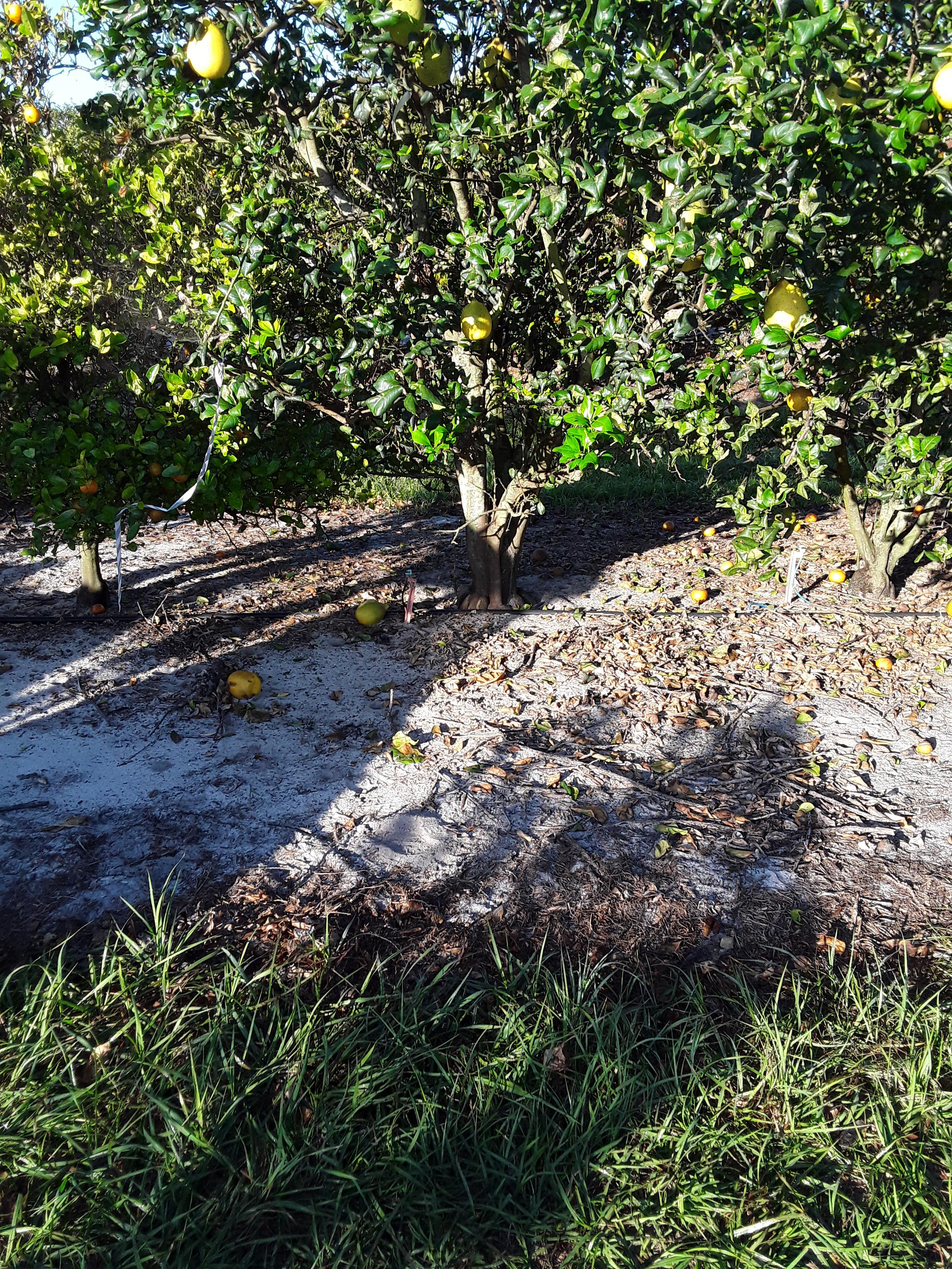fruit_on_ground: (185, 15, 241, 91), (759, 275, 810, 344), (383, 0, 429, 55), (410, 45, 450, 101), (482, 35, 517, 94), (672, 188, 714, 235), (456, 294, 494, 344), (664, 235, 705, 278), (929, 56, 951, 114), (785, 387, 818, 413), (167, 459, 190, 488), (2, 1, 27, 24), (21, 102, 40, 126), (309, 0, 346, 12), (72, 496, 92, 516), (81, 479, 98, 501), (131, 505, 147, 526), (148, 507, 167, 523), (237, 425, 254, 441)
fruit_on_tree: (226, 671, 258, 708), (354, 594, 384, 628), (912, 735, 940, 758), (824, 566, 850, 586), (690, 586, 712, 606), (872, 654, 896, 672), (802, 511, 826, 528), (910, 498, 927, 521), (689, 544, 712, 561), (660, 516, 679, 533), (533, 545, 550, 564), (553, 562, 567, 582), (702, 526, 723, 537), (91, 600, 104, 617), (942, 595, 952, 617), (691, 512, 708, 521), (215, 550, 228, 558)
